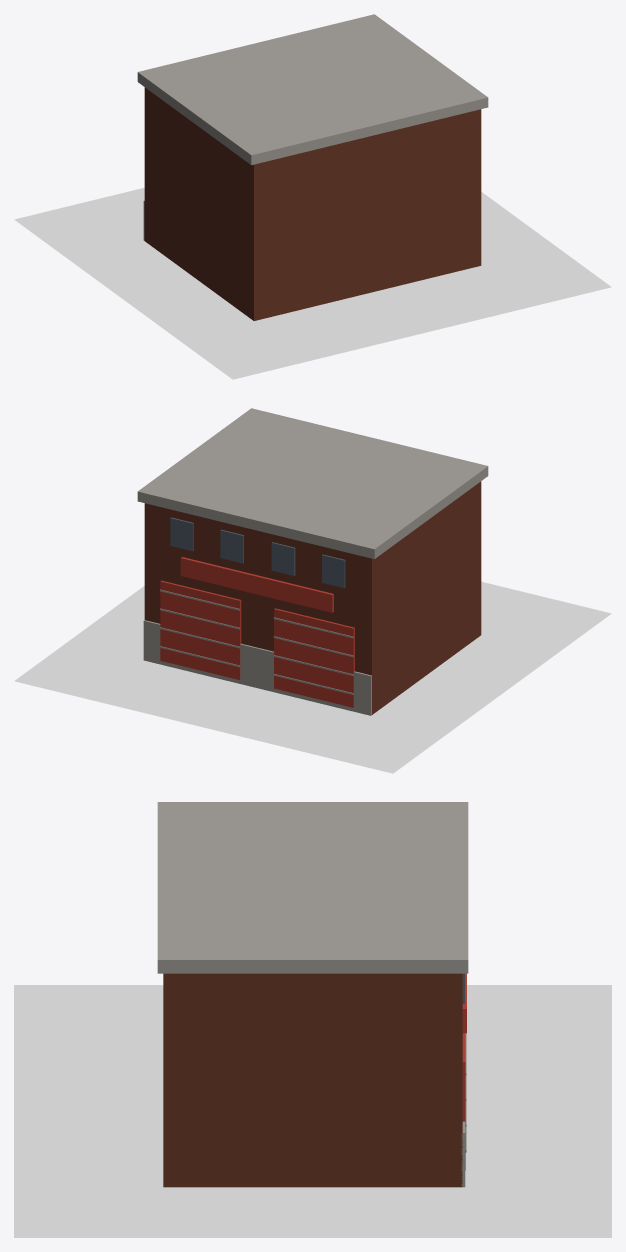
The model's file is firehouse.glb.
3 renders of one model, top to bottom at view 1: azimuth 30°, elevation 25°; view 2: azimuth 150°, elevation 25°; view 3: azimuth 270°, elevation 25°, orthographic. The views are drawn at different scales.
Parts seen in each view (by area): view 1: Cube, Plane, Cube.002; view 2: Plane, Cube, Cube.002, Cube.008, Cube.003, Cube.001, Cube.013, Cube.015, Cube.014, Cube.016, Cube.017; view 3: Plane, Cube, Cube.002.
Part boxes in pixels (x1=…): Cube: x1=144, y1=87, x2=481, y2=320; Plane: x1=14, y1=187, x2=611, y2=379; Cube.002: x1=137, y1=14, x2=488, y2=165; Plane: x1=14, y1=581, x2=611, y2=773; Cube: x1=144, y1=481, x2=481, y2=714; Cube.002: x1=137, y1=408, x2=488, y2=559; Cube.008: x1=160, y1=580, x2=241, y2=679; Cube.003: x1=274, y1=608, x2=354, y2=707; Cube.001: x1=143, y1=620, x2=371, y2=715; Cube.013: x1=180, y1=557, x2=333, y2=612; Cube.015: x1=271, y1=542, x2=295, y2=575; Cube.014: x1=322, y1=554, x2=345, y2=588; Cube.016: x1=220, y1=529, x2=243, y2=563; Cube.017: x1=170, y1=517, x2=193, y2=551; Plane: x1=14, y1=985, x2=611, y2=1237; Cube: x1=163, y1=973, x2=462, y2=1187; Cube.002: x1=157, y1=802, x2=468, y2=973.
Bounding box in the file's own units: 20 × 8.5 × 20.
